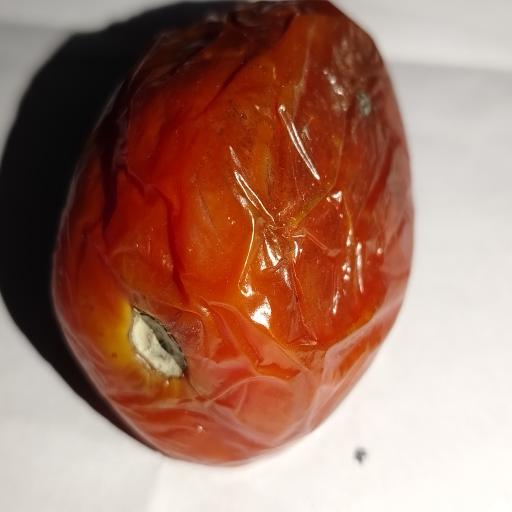spoiled: (52, 0, 413, 464)
